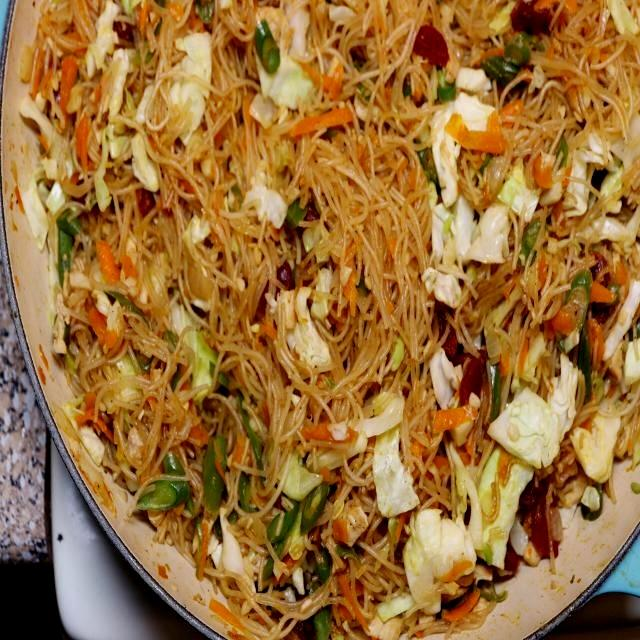pancit bihon: (15, 0, 639, 639)
